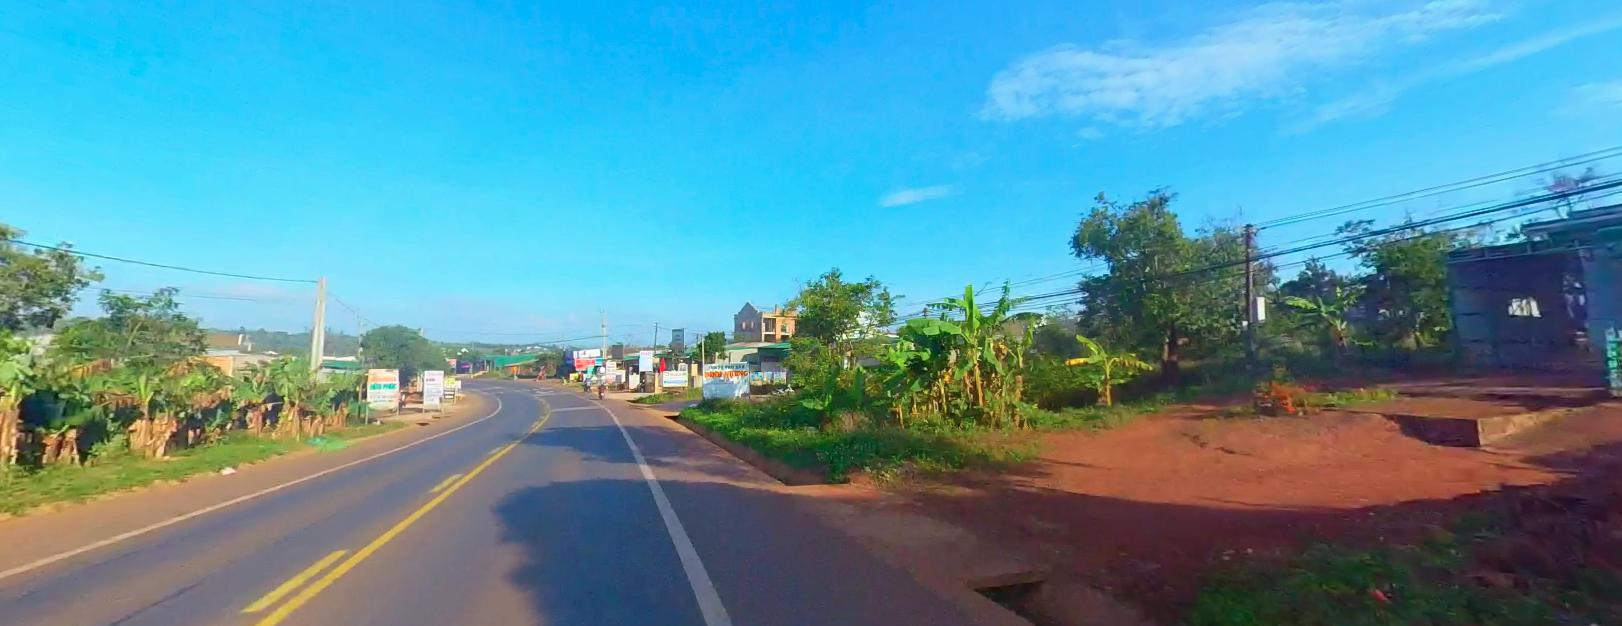Nguy hiem: (510, 363, 517, 368)
